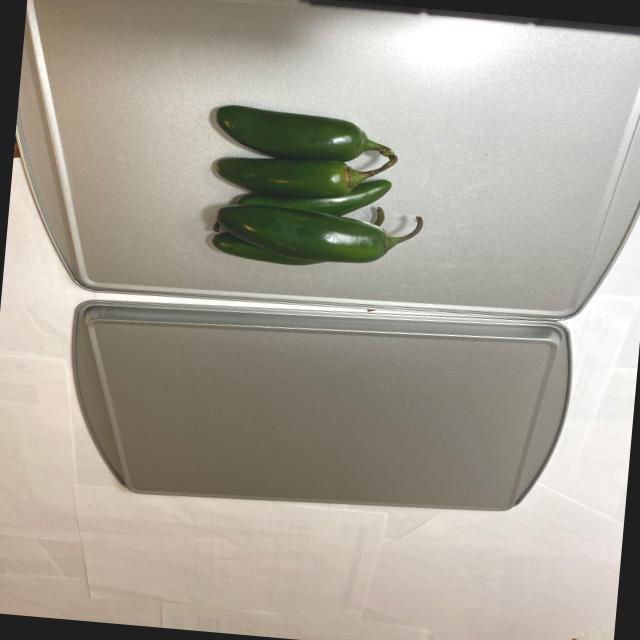chilli: (182, 84, 440, 286)
